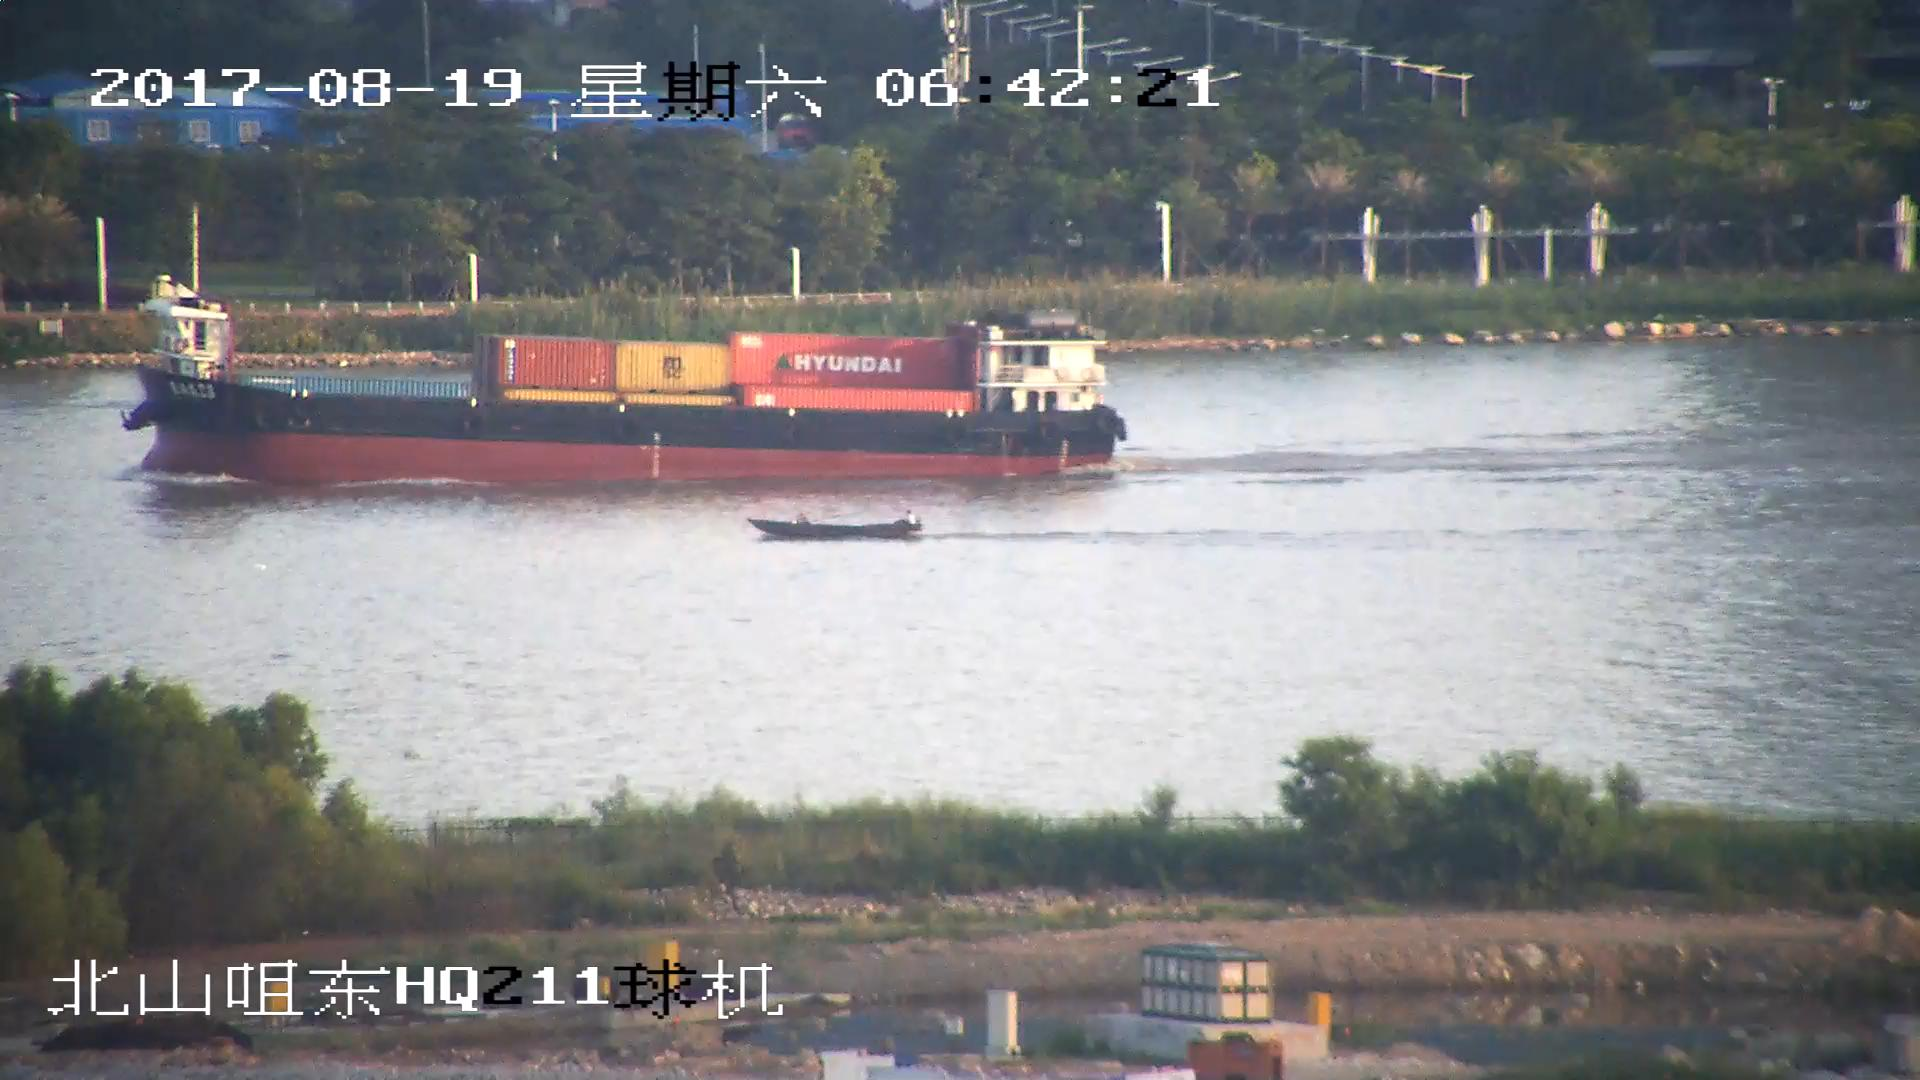container ship: (124, 273, 1127, 475)
fishing boat: (750, 509, 920, 543)
